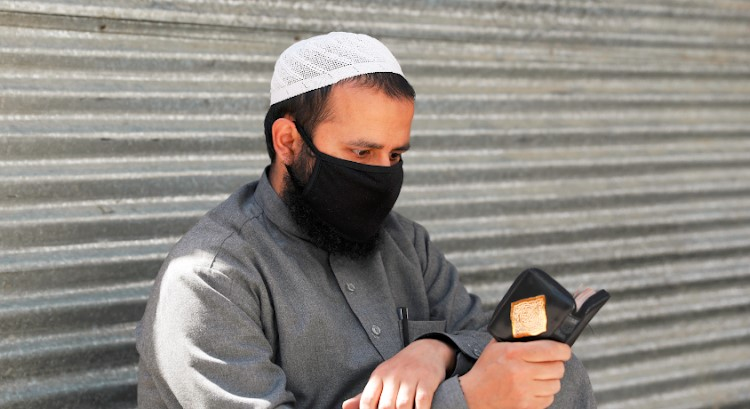face_with_mask: (261, 31, 414, 252)
